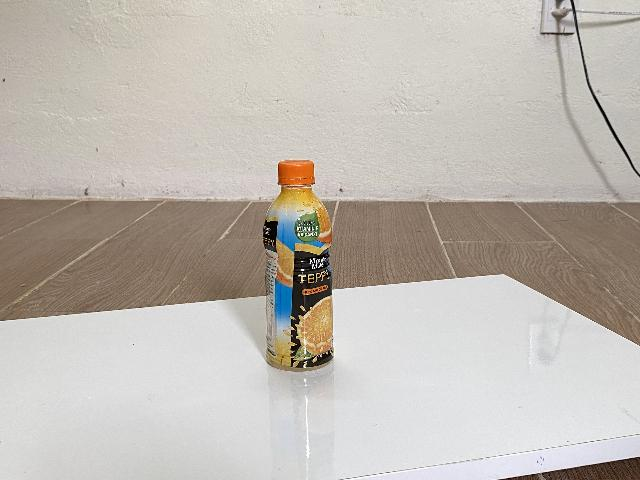teppy_orange_juice: (261, 160, 335, 374)
